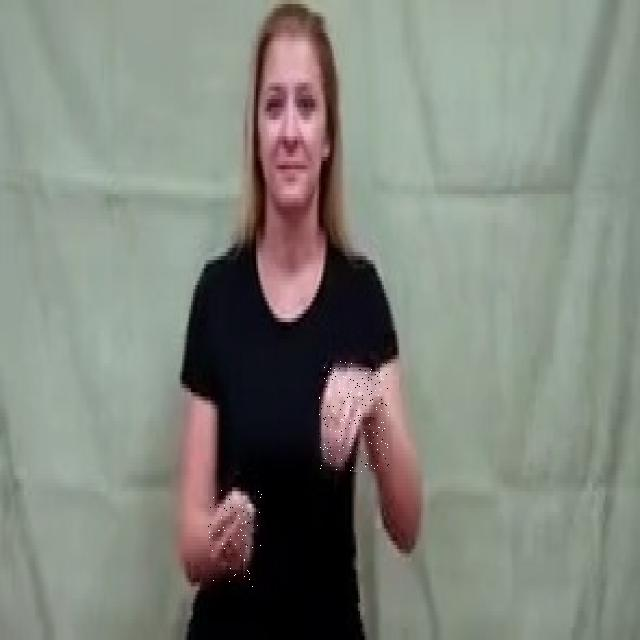ingredients: (320, 361, 390, 472), (208, 489, 262, 587)
